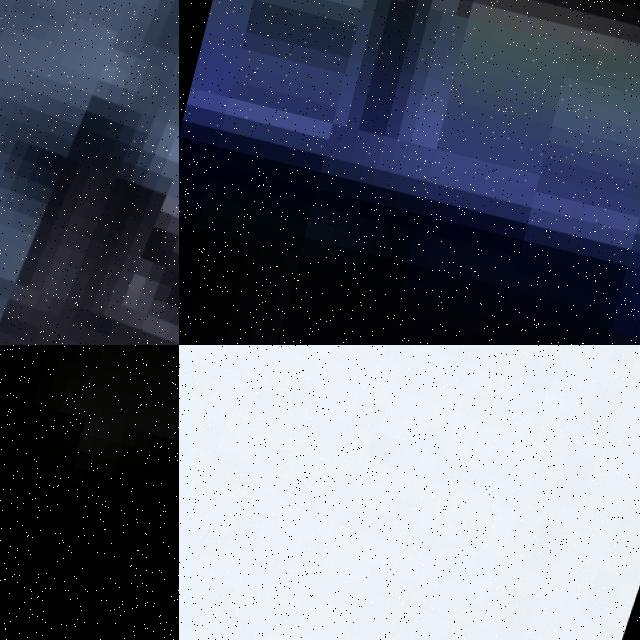0: (0, 0, 179, 345)
drone: (179, 345, 640, 640)
